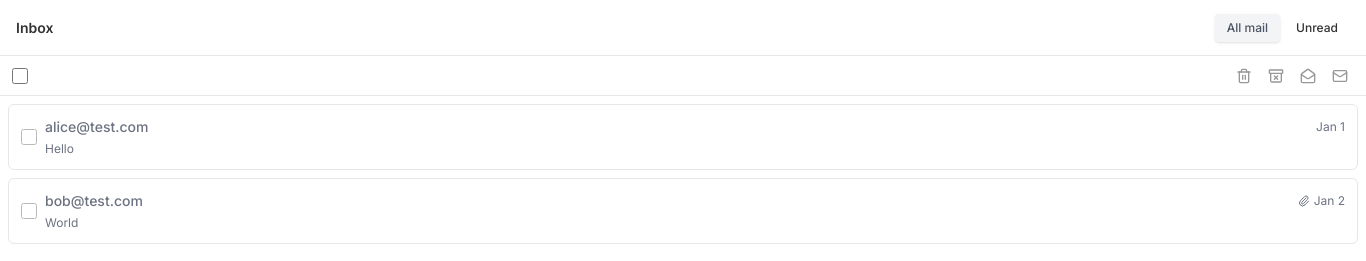
Test: MessageList — bulk action toolbar › bulk mark unread PATCHes messages and restores unread badges
Step 1. Click the checkbox with test id "select-all-checkbox" → [20, 76], box [12,68,28,84]
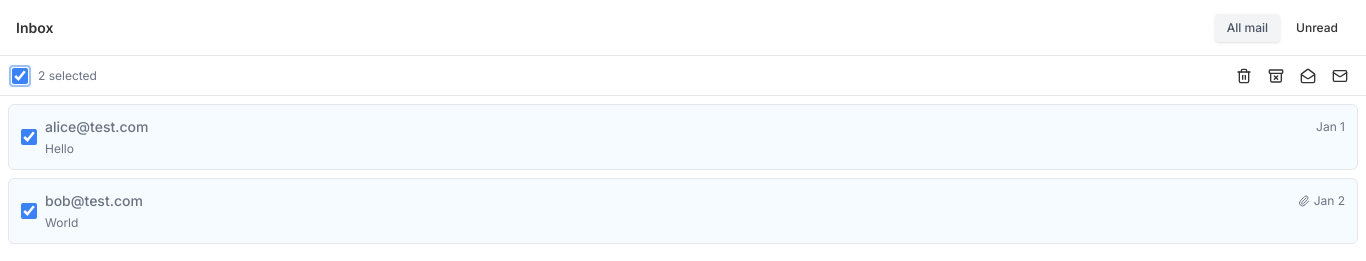
Step 2. Click the button with test id "bulk-mark-unread-button" → [1340, 76], box [1326,62,1354,90]
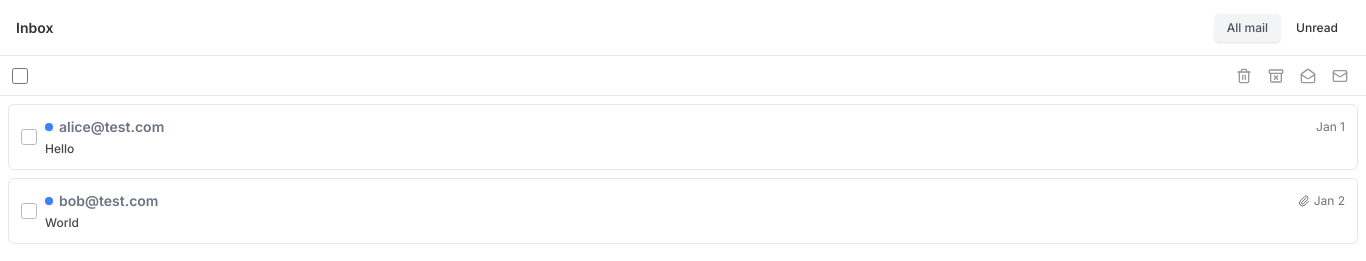
Result: the number of elements named "Unread" is 2 at [45,123,53,131]; [45,197,53,205]
